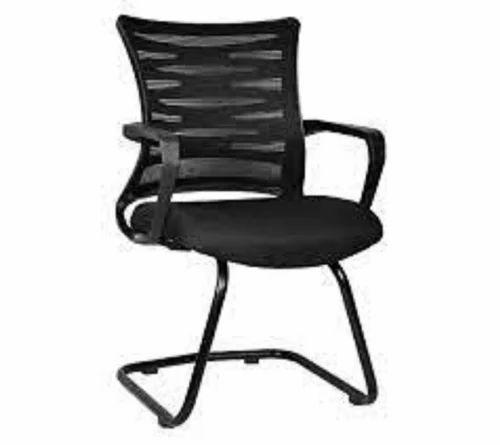chair: (35, 5, 432, 433)
